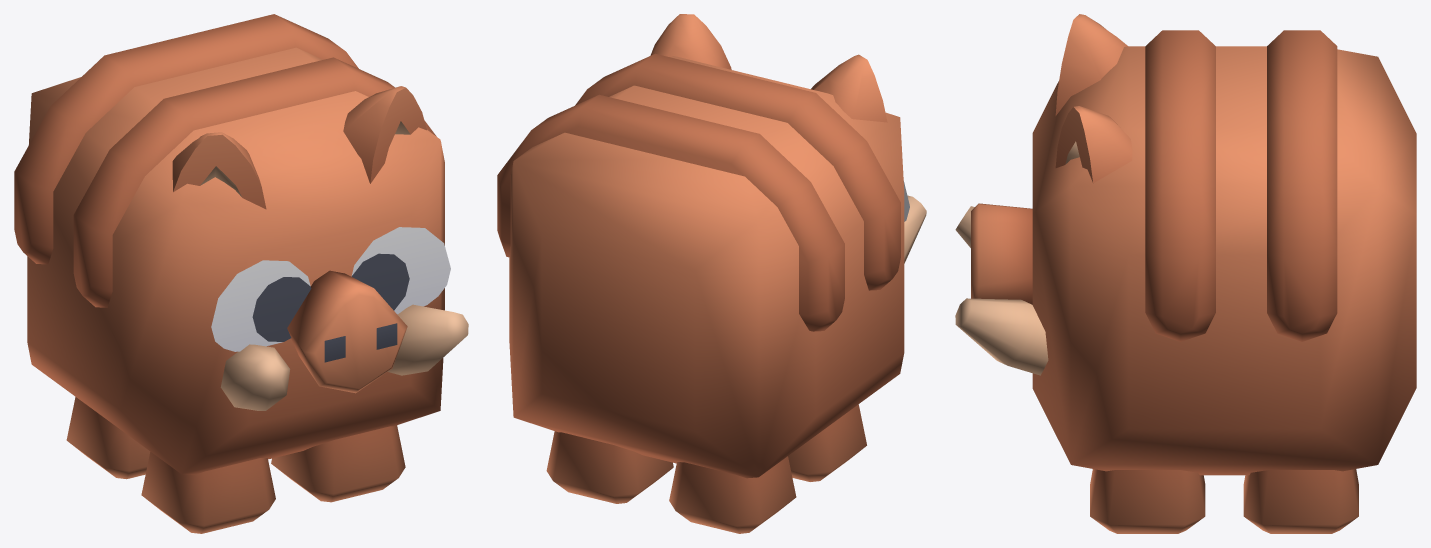
Rendered from hog.glb.
3 views of the same model, side by side, from view 1: azimuth 30°, elevation 25°; view 2: azimuth 150°, elevation 25°; view 3: azimuth 270°, elevation 25° (orthographic). The views are drawn at different scales.
Visible parts, largest first — view 1: body, leg-front-right, leg-front-left, leg-back-right; view 2: body, leg-back-right, leg-back-left, leg-front-right; view 3: body, leg-front-left, leg-back-left.
Boxes of the visible parts, x1=… form: body: x1=14, y1=14, x2=468, y2=474; leg-front-right: x1=141, y1=452, x2=275, y2=533; leg-front-left: x1=271, y1=425, x2=405, y2=502; leg-back-right: x1=66, y1=397, x2=150, y2=479; body: x1=497, y1=14, x2=926, y2=478; leg-back-right: x1=669, y1=456, x2=796, y2=533; leg-back-left: x1=546, y1=431, x2=673, y2=503; leg-front-right: x1=788, y1=404, x2=866, y2=481; body: x1=955, y1=14, x2=1416, y2=475; leg-front-left: x1=1090, y1=469, x2=1205, y2=533; leg-back-left: x1=1243, y1=469, x2=1358, y2=533.
Bounding box in the file's own units: 1.35 × 1.52 × 1.5.
1 material, 1 textured.
